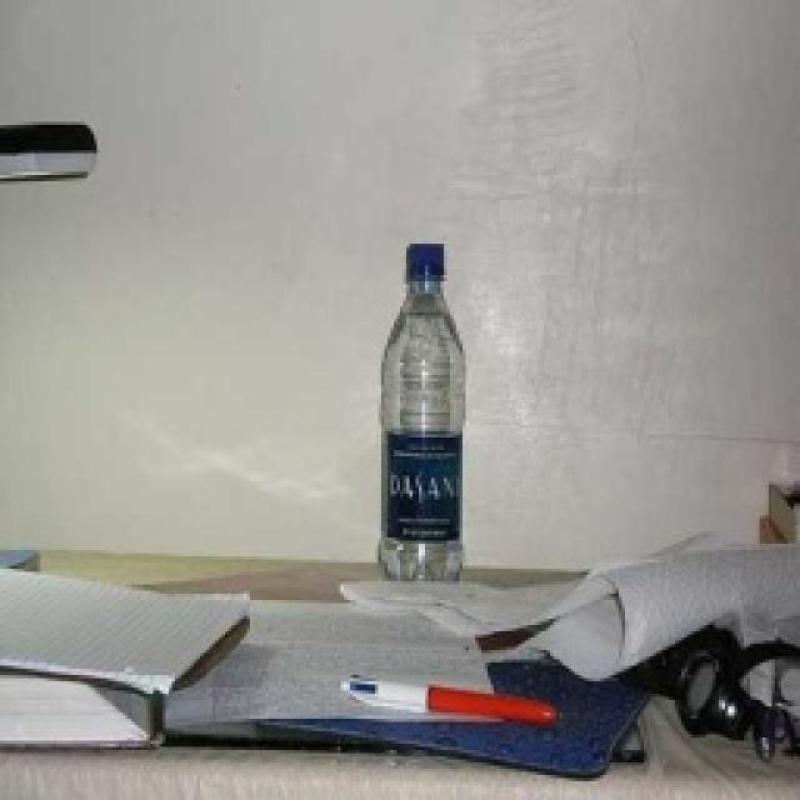botella: (380, 241, 468, 582)
